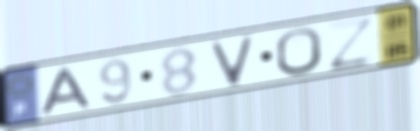8: (159, 45, 199, 97)
9: (97, 58, 133, 106)
A: (38, 65, 95, 117)
O: (273, 26, 325, 78)
V: (207, 32, 257, 89)
Z: (325, 13, 377, 73)
